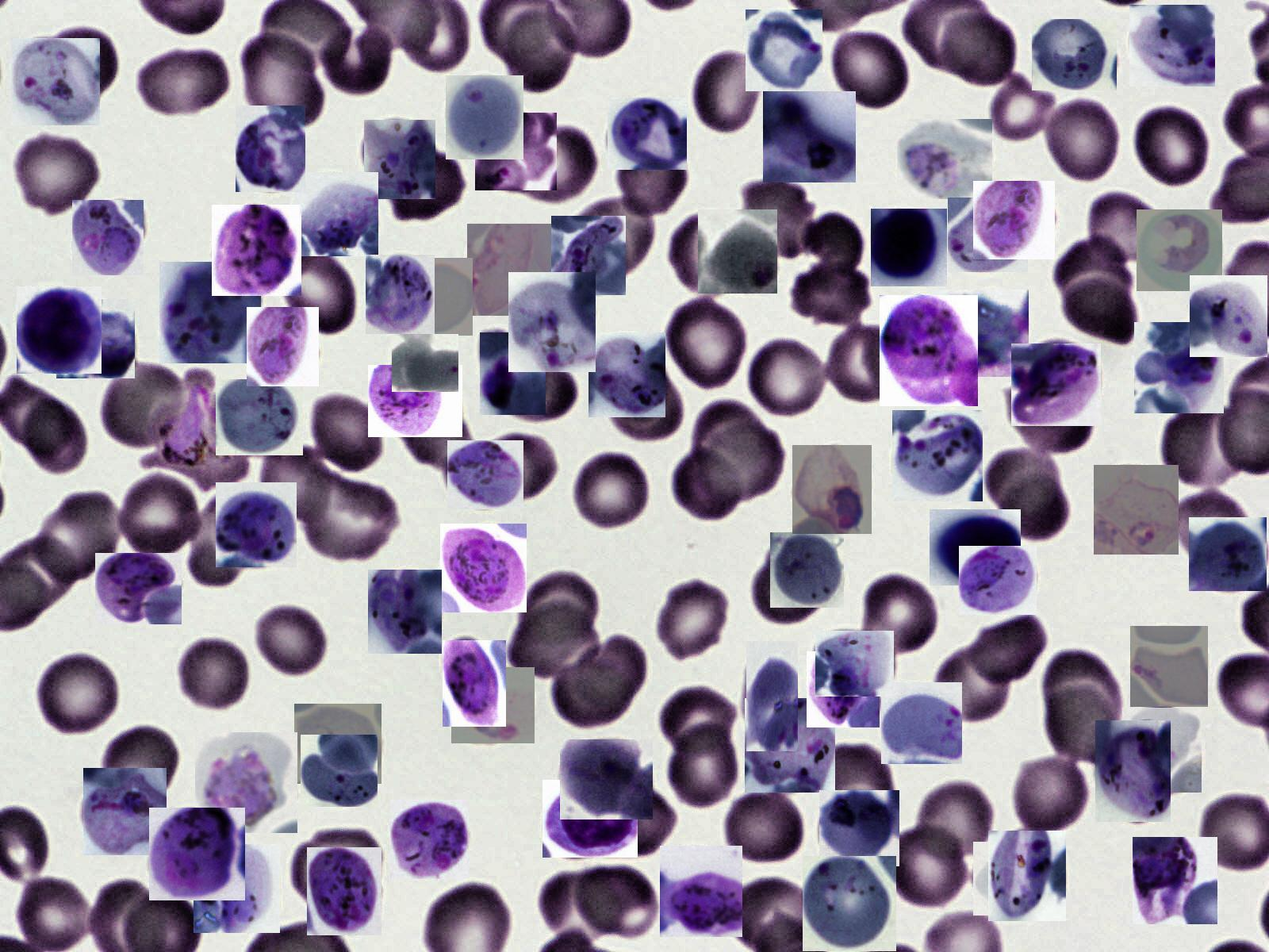Infected: (141, 370, 252, 486), (880, 295, 978, 406), (195, 732, 297, 833), (159, 262, 261, 363), (803, 856, 896, 951), (149, 808, 245, 900), (508, 272, 596, 372), (763, 91, 856, 182), (745, 699, 835, 793), (932, 290, 1029, 377), (892, 410, 983, 501), (1134, 322, 1224, 413), (212, 205, 301, 296), (1095, 720, 1171, 822), (467, 224, 551, 316), (440, 524, 527, 612), (12, 38, 100, 125), (194, 844, 280, 933), (1094, 465, 1179, 555), (897, 119, 992, 199), (560, 739, 653, 820), (542, 780, 638, 858), (17, 286, 102, 374), (660, 846, 742, 937), (1011, 344, 1101, 426), (1133, 837, 1217, 924), (83, 768, 167, 855), (293, 172, 378, 256), (792, 445, 872, 534), (988, 831, 1066, 921), (1137, 209, 1222, 291), (1129, 5, 1215, 86), (295, 704, 382, 784), (930, 509, 1021, 585), (216, 482, 297, 567), (1122, 708, 1202, 793), (368, 365, 462, 437), (698, 209, 777, 294), (881, 682, 962, 764), (216, 379, 303, 455), (588, 332, 665, 417), (308, 847, 382, 935), (446, 75, 523, 159), (973, 181, 1055, 259), (451, 667, 535, 743), (1130, 626, 1208, 707), (475, 113, 557, 190), (1190, 275, 1267, 357), (390, 800, 469, 879), (56, 299, 135, 378), (368, 570, 442, 654), (95, 553, 182, 624), (746, 10, 822, 91), (819, 790, 899, 866), (1032, 19, 1117, 90), (236, 106, 305, 192), (871, 209, 947, 287), (397, 258, 473, 336), (551, 216, 626, 295), (948, 198, 1028, 272), (1189, 517, 1267, 591), (608, 98, 687, 171), (746, 641, 798, 751), (247, 307, 319, 386), (770, 532, 844, 608), (364, 120, 435, 199), (973, 842, 1048, 916), (807, 651, 880, 727), (301, 735, 378, 807), (443, 640, 506, 727), (480, 332, 546, 415), (366, 255, 435, 334), (72, 200, 144, 275), (959, 546, 1037, 615), (447, 440, 523, 509), (815, 631, 894, 697), (392, 334, 458, 392)
Uninfected: (286, 468, 402, 567), (239, 26, 324, 134), (911, 774, 1000, 872), (34, 486, 117, 587), (663, 298, 749, 393), (485, 0, 571, 95), (879, 820, 969, 910), (115, 473, 203, 563), (821, 320, 913, 406), (274, 242, 357, 337), (662, 712, 742, 809), (732, 176, 821, 263), (506, 601, 606, 677), (35, 651, 121, 739), (12, 132, 99, 218), (393, 385, 475, 475), (1040, 94, 1121, 185), (1161, 405, 1242, 495), (289, 825, 381, 904), (135, 44, 229, 121), (746, 336, 831, 421), (701, 422, 787, 505), (857, 573, 937, 662), (1003, 374, 1095, 451), (1044, 684, 1125, 770), (101, 361, 182, 447), (669, 212, 749, 299), (573, 194, 654, 279), (1042, 649, 1121, 736), (683, 44, 761, 132), (1132, 106, 1212, 190), (1053, 233, 1133, 317), (589, 783, 673, 863), (1086, 189, 1167, 271), (935, 11, 1019, 90), (816, 742, 894, 827), (786, 257, 880, 327), (571, 450, 650, 533), (830, 29, 909, 111), (577, 865, 661, 942), (1011, 752, 1088, 835), (616, 129, 689, 216), (105, 720, 179, 805), (1167, 489, 1253, 562), (189, 492, 255, 587), (724, 787, 803, 865), (309, 392, 385, 473), (384, 149, 465, 225), (983, 443, 1062, 520), (608, 364, 687, 441), (650, 578, 726, 658), (259, 441, 335, 520), (539, 872, 622, 943), (571, 633, 646, 711), (660, 684, 739, 758), (727, 879, 809, 950), (546, 663, 634, 729), (253, 602, 327, 679), (968, 614, 1049, 684), (18, 877, 94, 950), (176, 635, 248, 712), (473, 433, 557, 499), (21, 397, 92, 475), (517, 573, 600, 639), (1063, 275, 1139, 347), (529, 127, 598, 206), (997, 470, 1070, 544), (934, 649, 1008, 720), (48, 27, 117, 103), (321, 27, 394, 94), (688, 402, 763, 466), (991, 75, 1059, 144), (673, 450, 740, 520), (750, 557, 819, 624), (506, 357, 577, 422), (803, 212, 863, 276)
